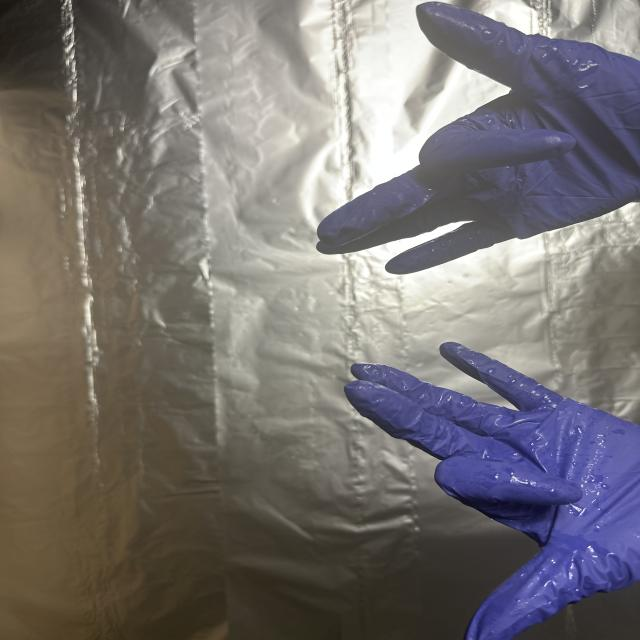gloves_contaminated: (345, 342, 640, 640), (318, 2, 640, 274)
